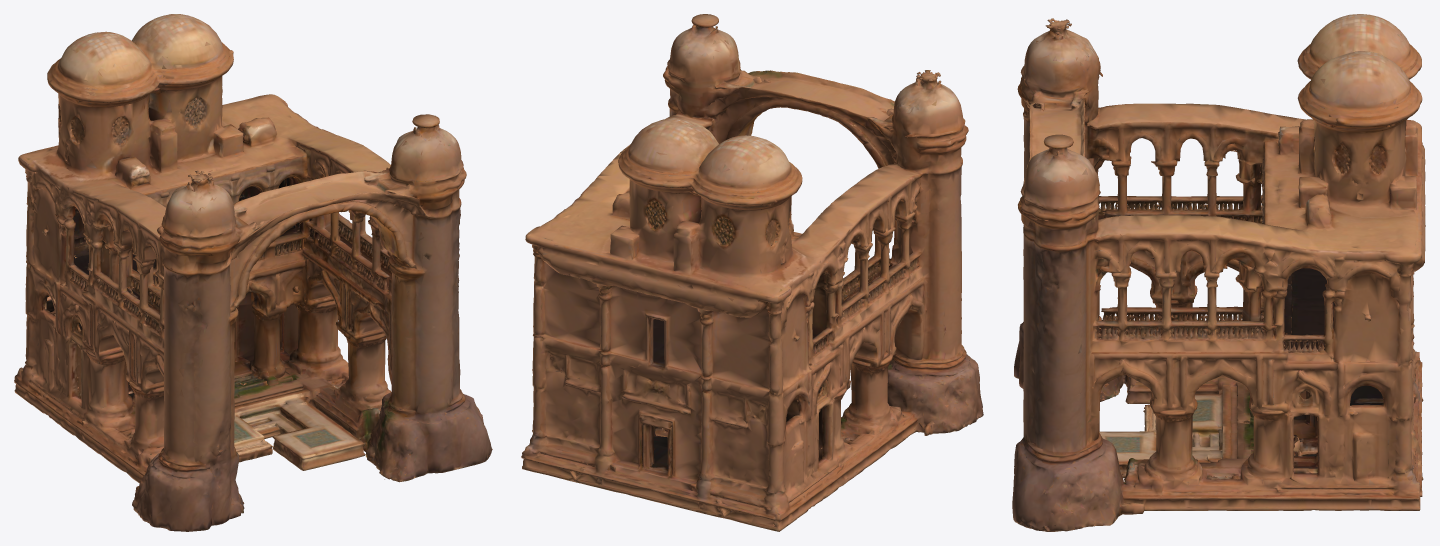
Rendered from A_sprawling_sandstone.glb.
The picture shows the model from 3 angles, left to right: view 1: azimuth 30°, elevation 25°; view 2: azimuth 150°, elevation 25°; view 3: azimuth 270°, elevation 25°; orthographic projection. The views are drawn at different scales.
Visible parts, largest first — view 1: A_sprawling_sandstone; view 2: A_sprawling_sandstone; view 3: A_sprawling_sandstone.
Part boxes in pixels (box(x1,y1,x2,y2)): A_sprawling_sandstone: box(14, 14, 492, 531); A_sprawling_sandstone: box(521, 14, 983, 531); A_sprawling_sandstone: box(1012, 14, 1425, 531).
Bounding box in the file's own units: 1.86 × 1.9 × 1.84.
Materials: 1 (1 with a texture image).
